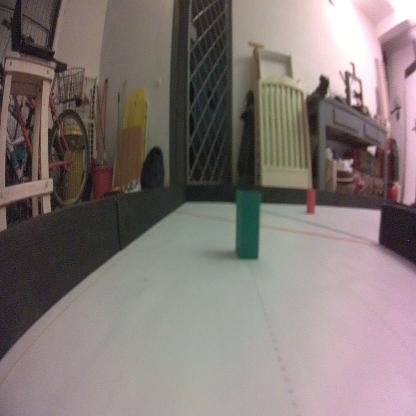green: (233, 184, 261, 262)
red: (304, 187, 316, 216)
